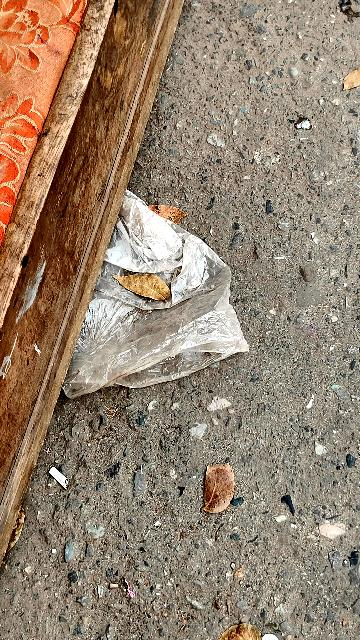polythene: (51, 195, 248, 386)
